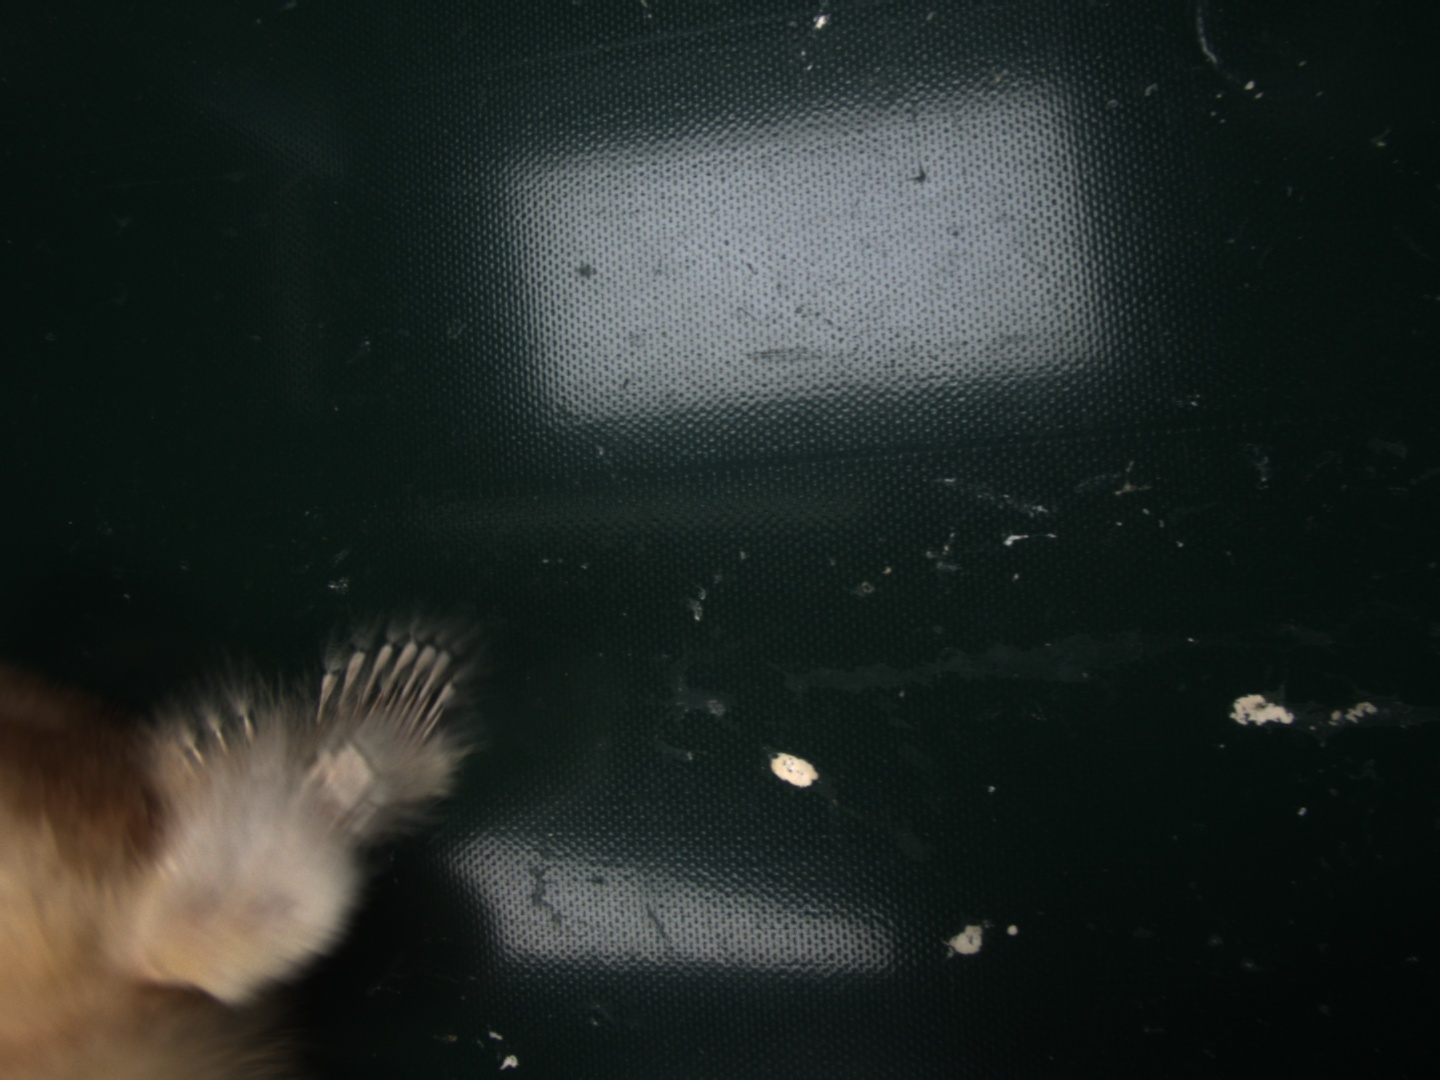female: (310, 635, 458, 746)
